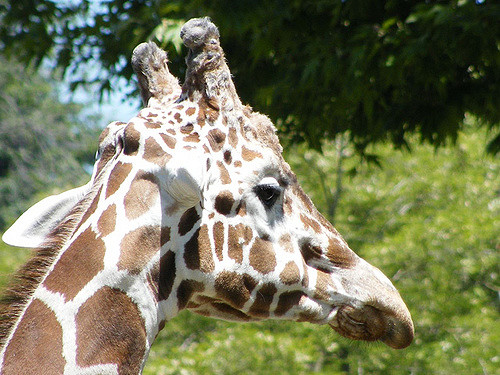giraffe: (31, 18, 420, 361)
